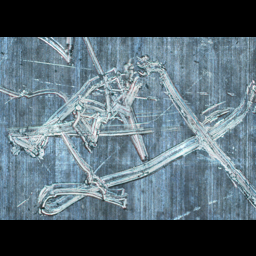d: (136, 60, 256, 196), (60, 53, 163, 156), (30, 166, 135, 216), (3, 118, 64, 163), (0, 84, 71, 112), (31, 36, 82, 70)
